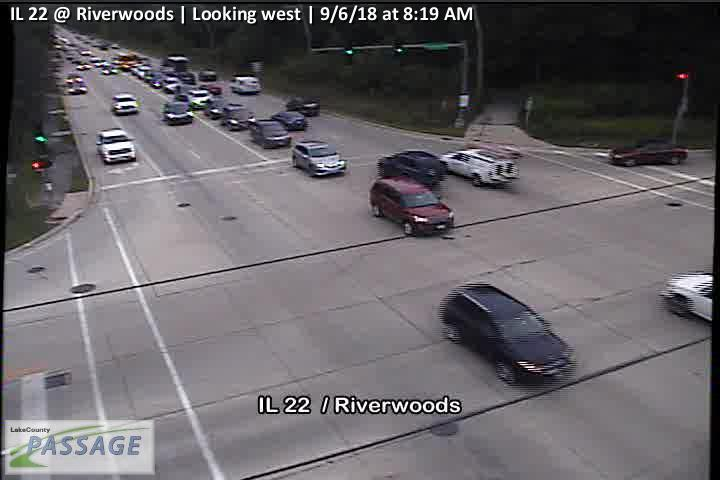SUV: (441, 147, 518, 185)
Sedan: (439, 279, 573, 386), (367, 174, 456, 237), (377, 149, 448, 185), (608, 142, 690, 168), (290, 140, 347, 177), (94, 127, 136, 164), (249, 116, 292, 149), (220, 100, 257, 132), (161, 99, 196, 124), (270, 110, 307, 133), (204, 96, 231, 120), (285, 99, 320, 117), (111, 91, 137, 114), (229, 76, 263, 93), (185, 90, 214, 108)
